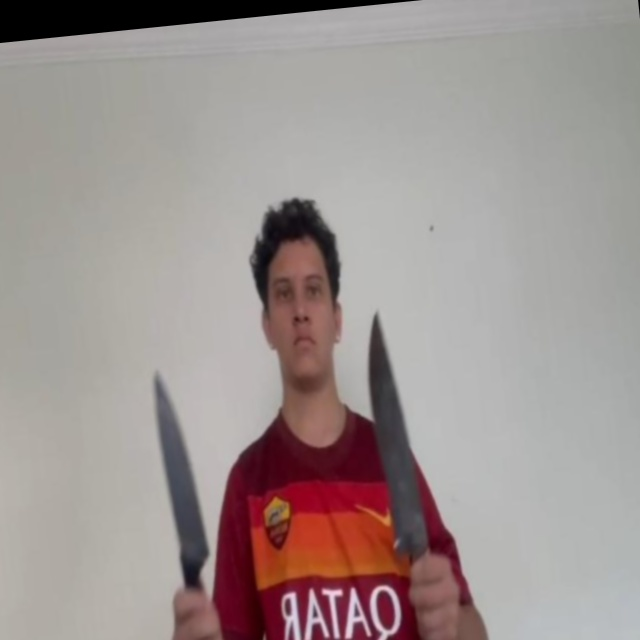Sharp-Object: (360, 310, 428, 557), (150, 366, 209, 563)
